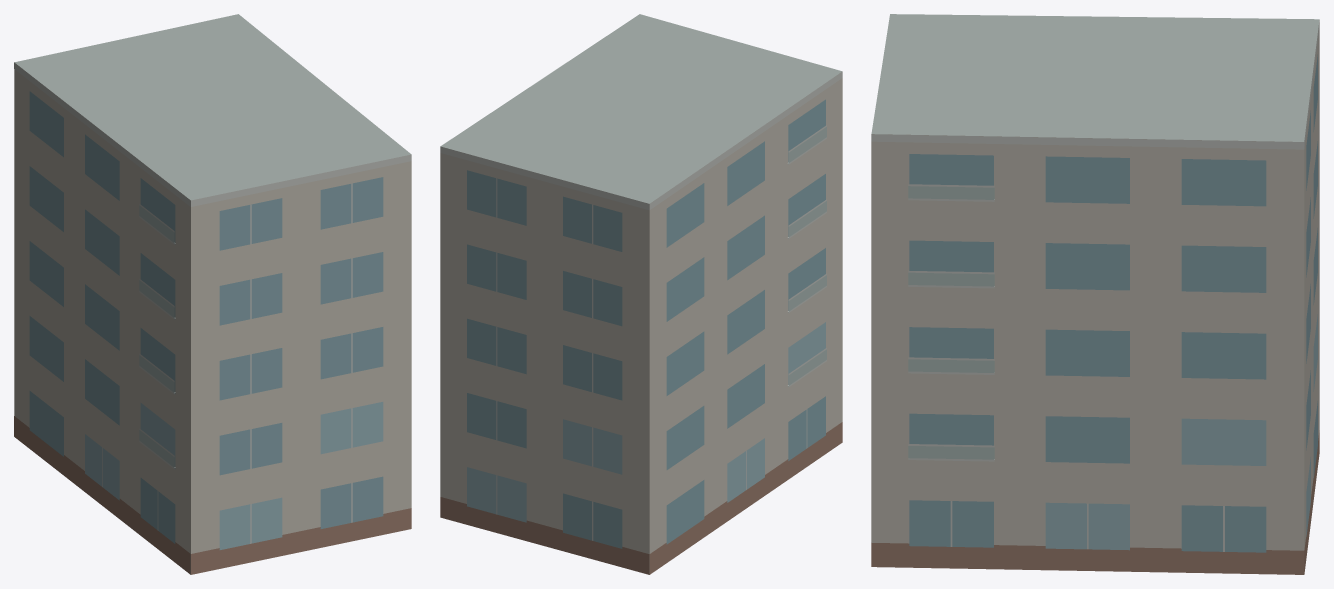
Rendered from survey-upis-32881998.glb.
The picture shows the model from 3 angles, left to right: view 1: azimuth 30°, elevation 25°; view 2: azimuth 150°, elevation 25°; view 3: azimuth 270°, elevation 25°; orthographic projection. The views are drawn at different scales.
Visible parts, largest first — view 1: survey-upis-32881998.tmp; view 2: survey-upis-32881998.tmp; view 3: survey-upis-32881998.tmp.
Part boxes in pixels (<box>): survey-upis-32881998.tmp: <box>14,14,411,574</box>; survey-upis-32881998.tmp: <box>440,14,842,574</box>; survey-upis-32881998.tmp: <box>871,14,1319,574</box>.
Bounding box in the file's own units: 8.76 × 13.8 × 12.96.
